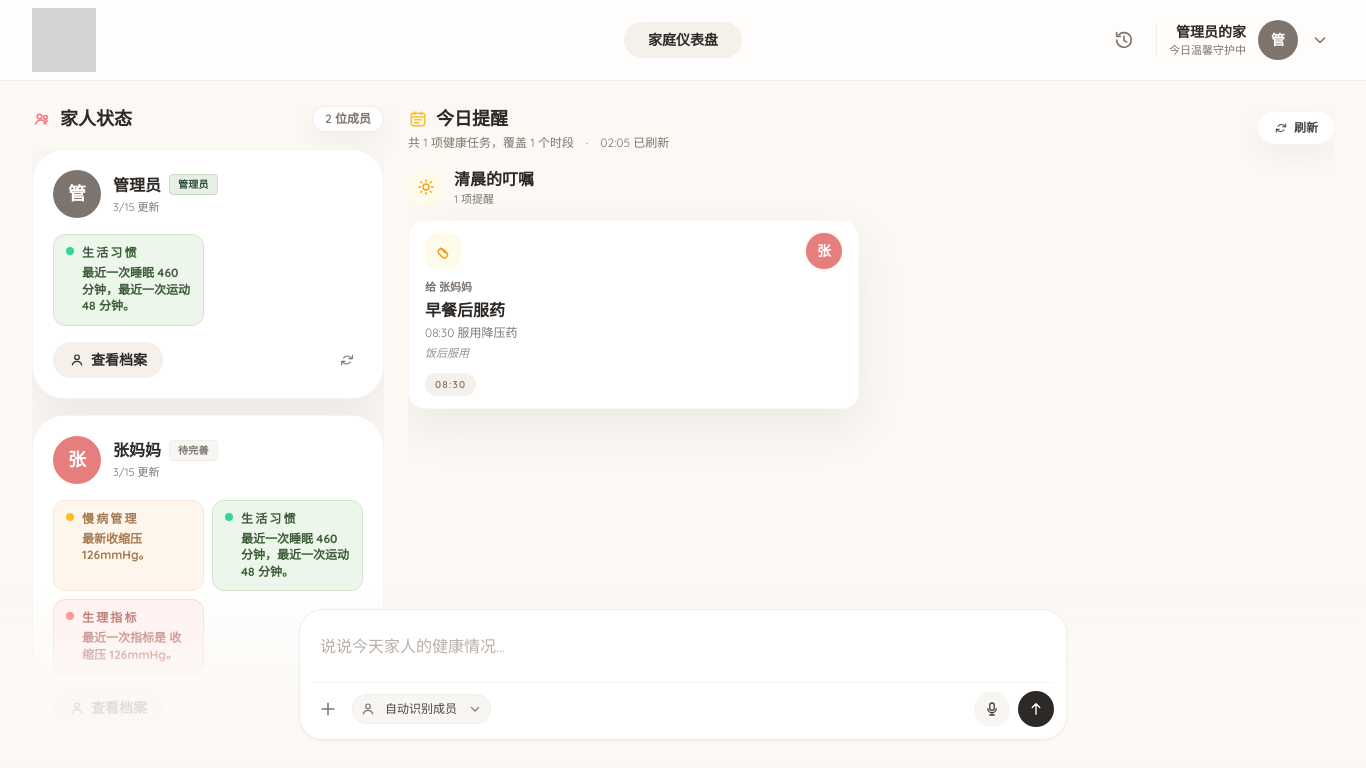
Test: App › streams chat draft cards and confirms them through confirm-draft endpoint
Step 1. Click the button named "发送文本" → (1036, 709), box x1=1018 y1=691 x2=1054 y2=727
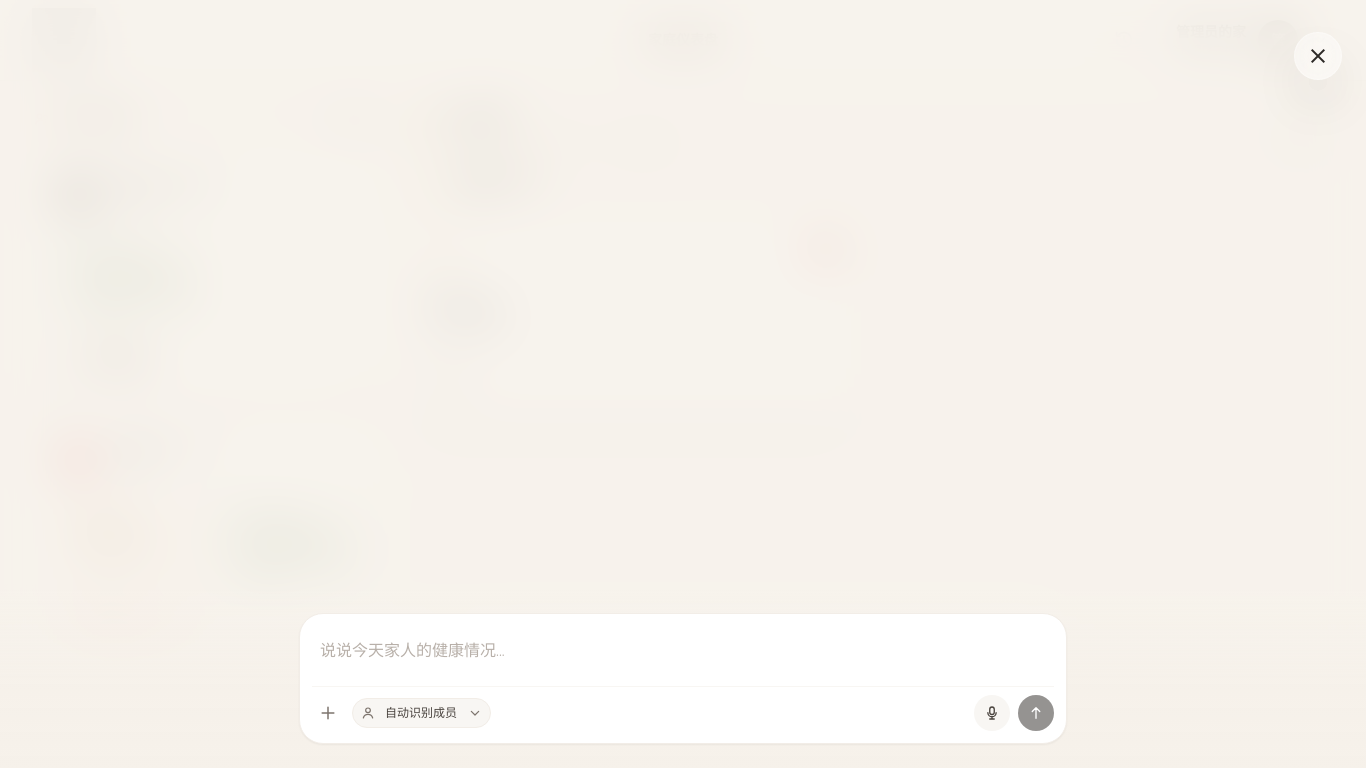
Step 2. Type "帮我记录张妈妈今天心率 72" into the text box named "对话输入框" → (683, 650), box x1=320 y1=630 x2=1046 y2=670
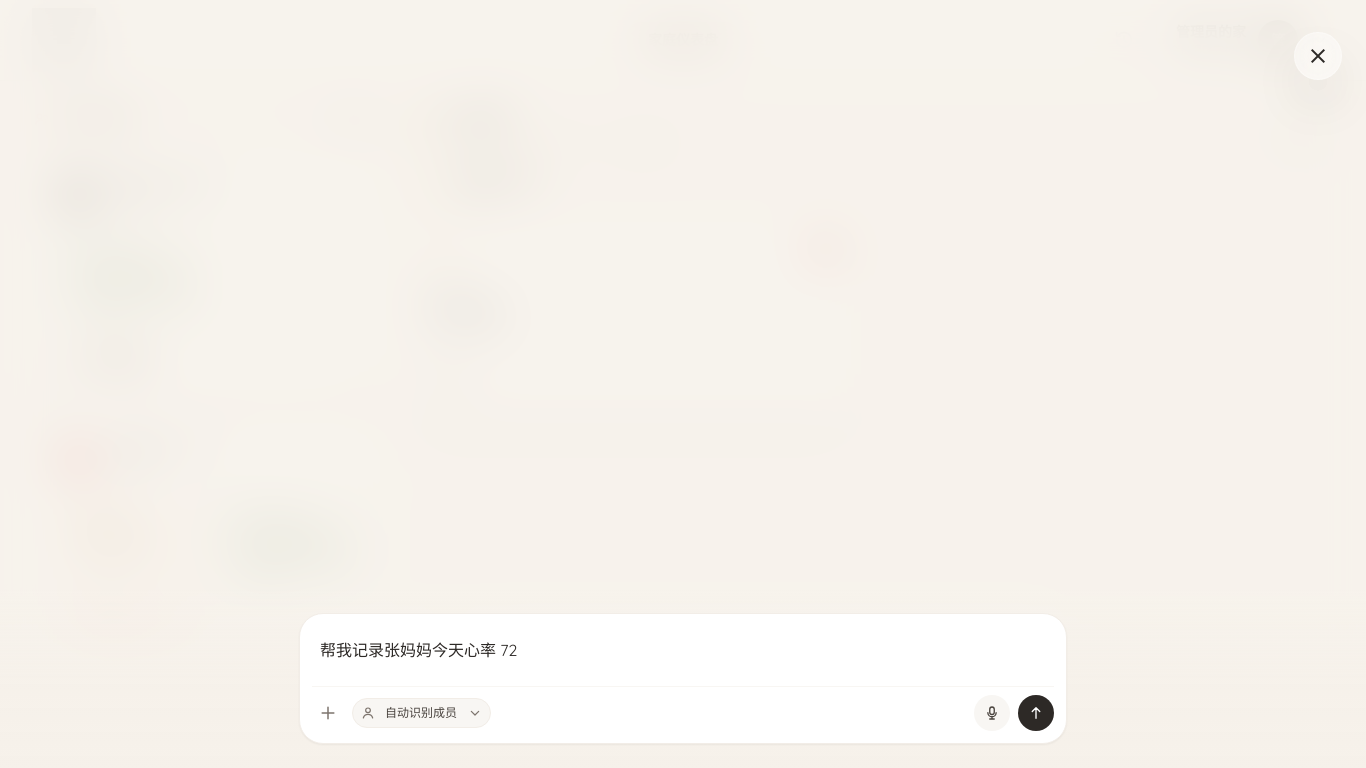
Step 3. Click the button named "发送" → (1036, 713), box x1=1018 y1=695 x2=1054 y2=731
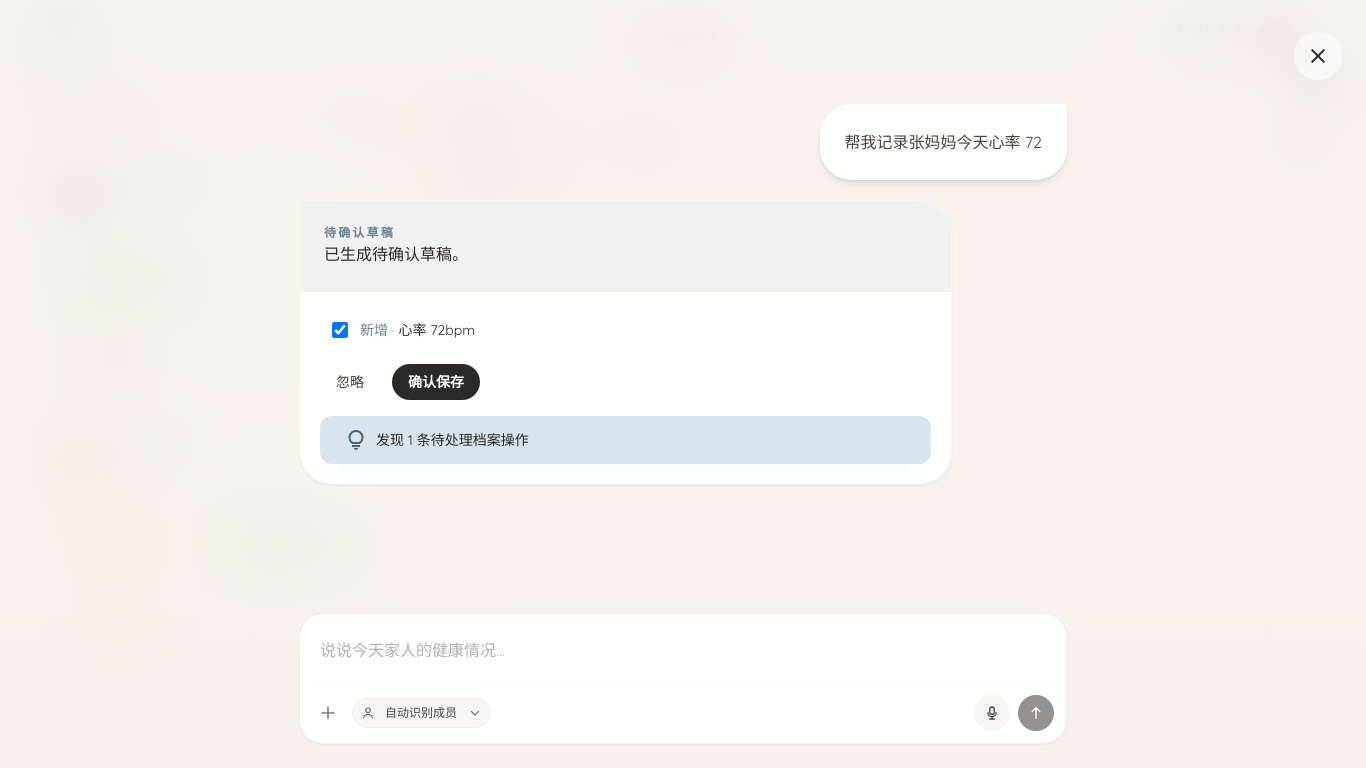
Expected: the text "待确认草稿" is shown, x1=324 y1=225 x2=395 y2=241
Expected: the text "心率 72bpm" is shown, x1=399 y1=321 x2=475 y2=339
Step 4. Click the button "确认保存" → (436, 382), box x1=392 y1=364 x2=480 y2=400
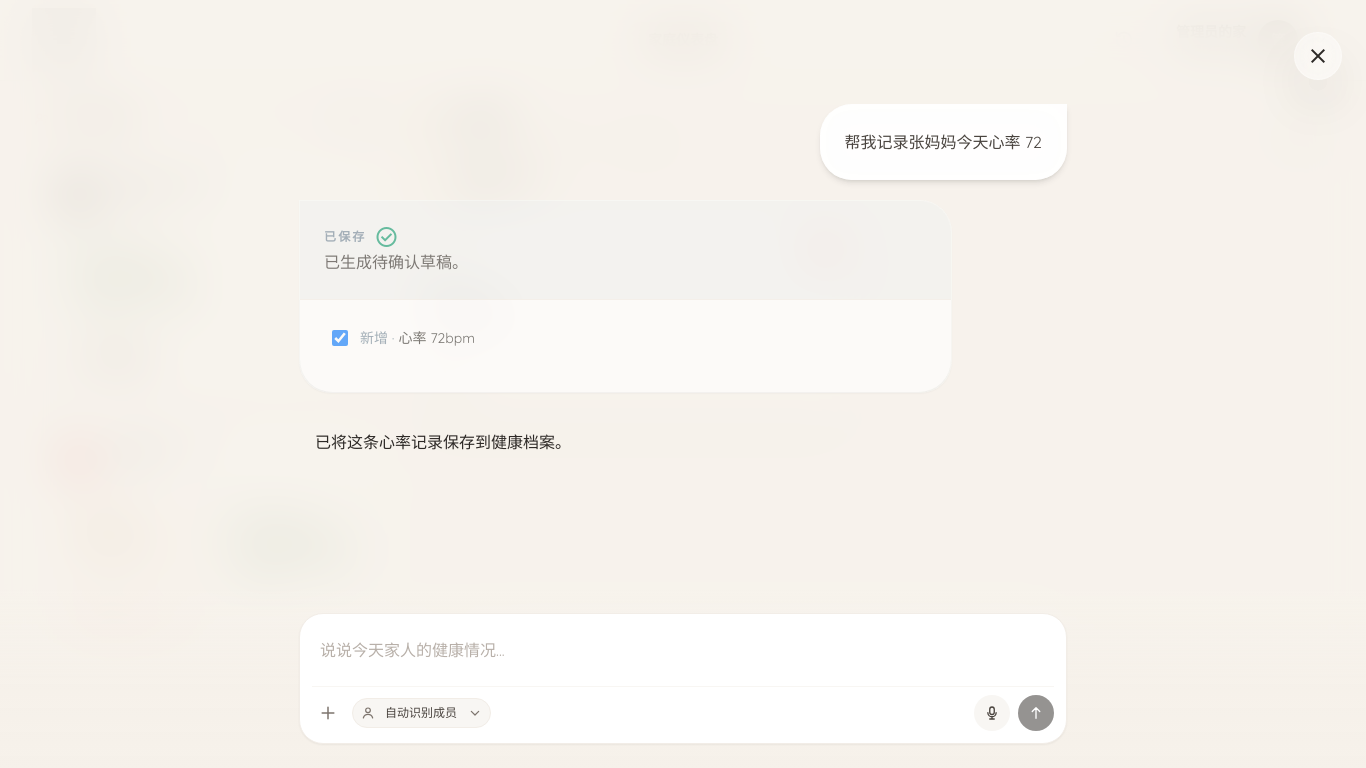
Expected: the text "已将这条心率记录保存到健康档案。" is shown, x1=315 y1=432 x2=571 y2=452
